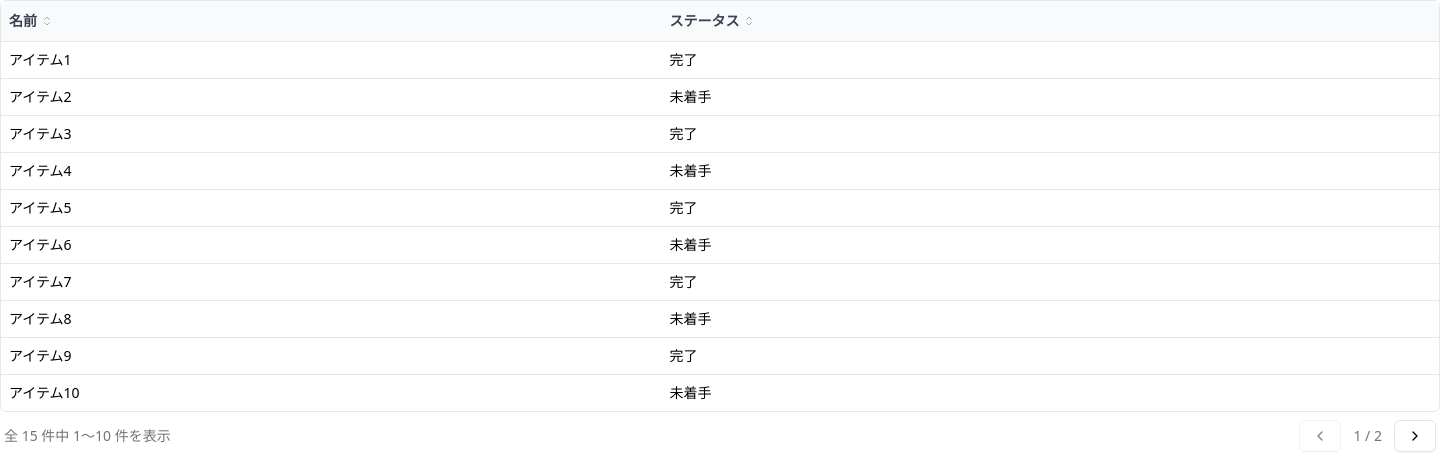
Test: DataTable › ページネーション › 「次のページ」ボタンクリックで次ページに遷移する
Expected: the text "アイテム1" is shown, [1,41,661,78]
Expected: the text "アイテム11" is not shown
Step 1. Click the button named "次のページ" → [1415, 436], box [1394,420,1436,452]
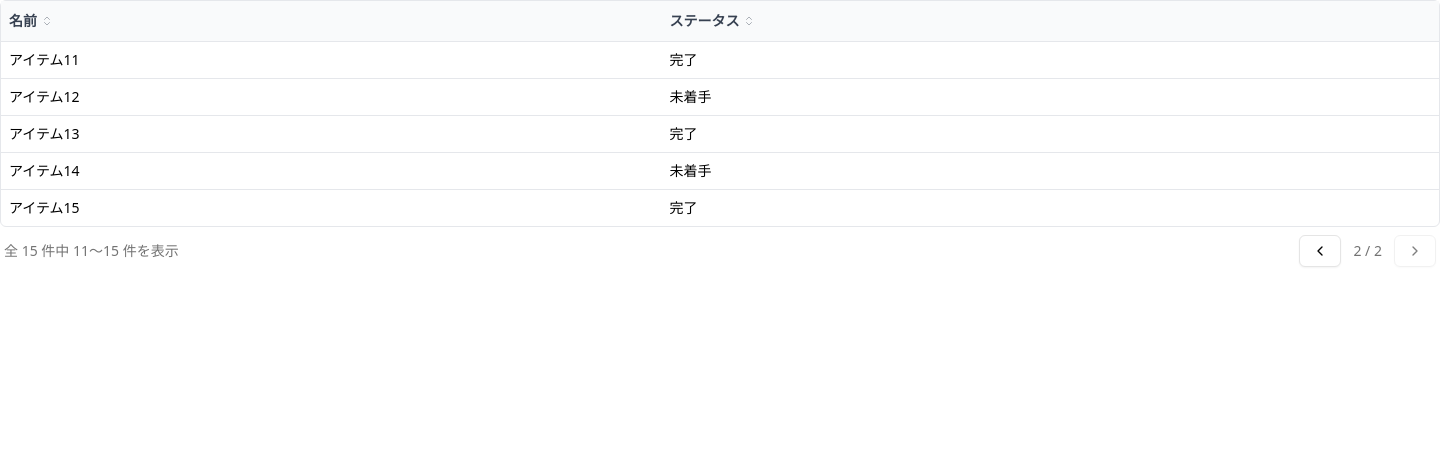
Result: the text "アイテム11" is shown at [1,41,661,78]
